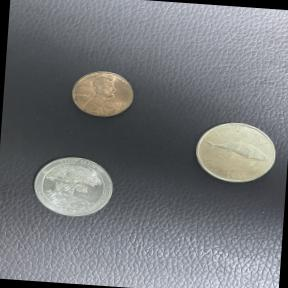coin: (186, 115, 282, 192), (24, 148, 122, 223), (64, 64, 140, 124)
